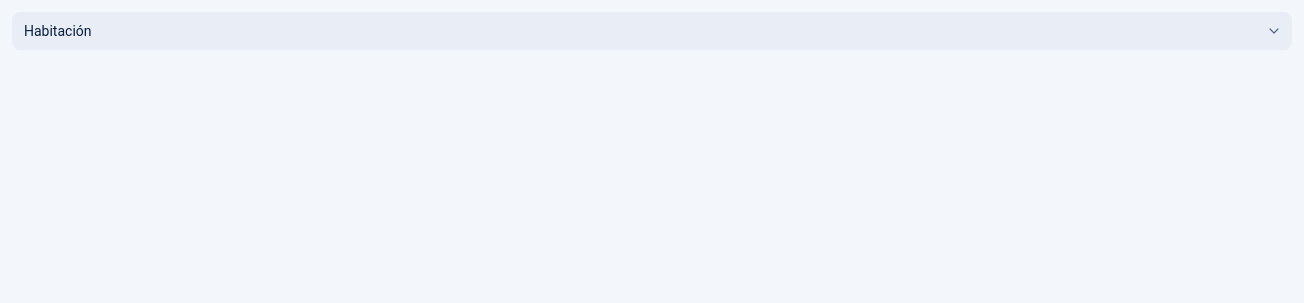
Test case: ignores accents and case when searching
Click the dropdown named "Tipo" at (58,31), box [12,12,1292,50]
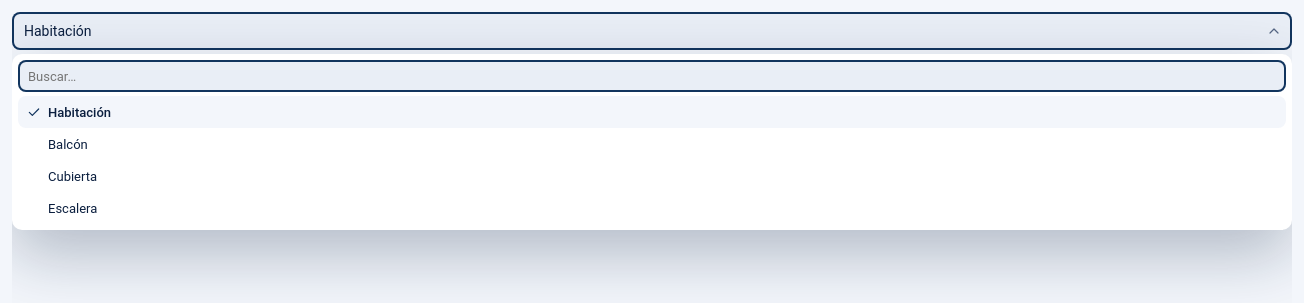
Type "BALCON" into the search field at (652,76), box [18,60,1286,92]
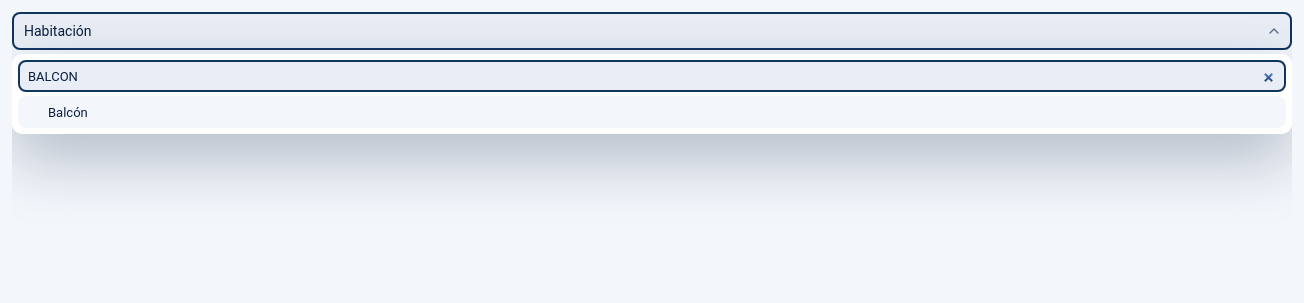
Expected: the options read "Balcón", in this order, [18,96,1286,128]
